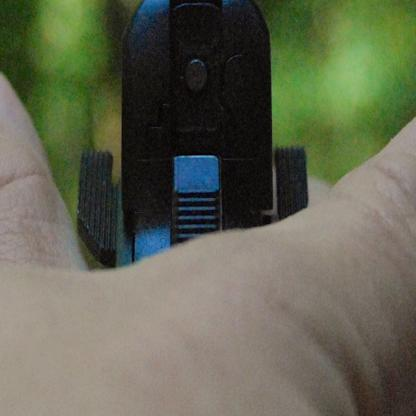gun: (52, 0, 324, 293)
